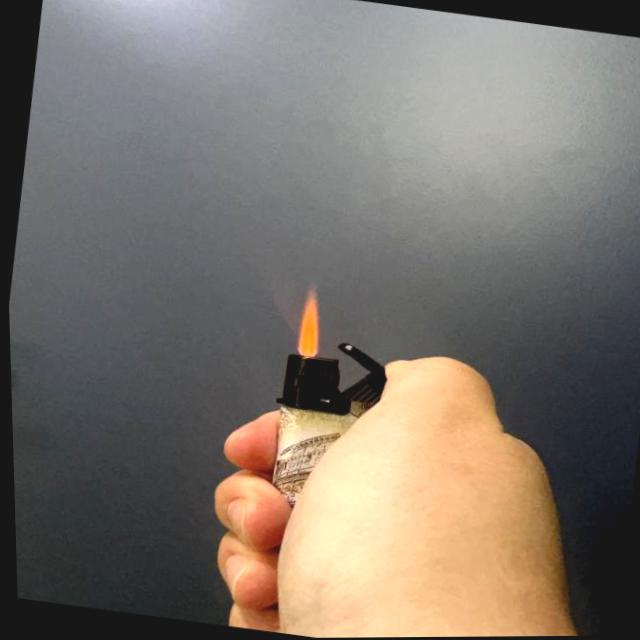helmet: (284, 280, 328, 360)
